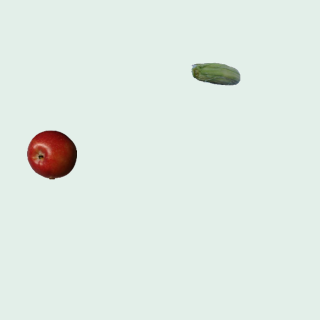Apple Braeburn: (26, 129, 76, 179)
Corn Husk: (190, 50, 240, 100)
